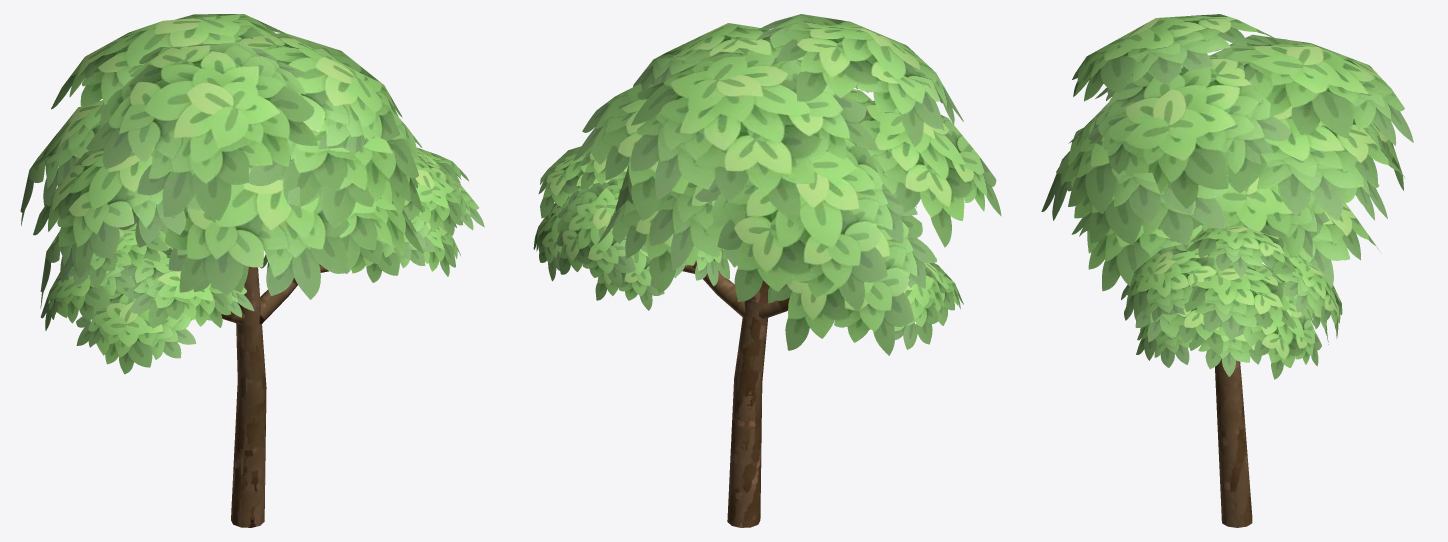
The model's file is tree_7.glb.
The picture shows the model from 3 angles, left to right: view 1: azimuth 30°, elevation 25°; view 2: azimuth 150°, elevation 25°; view 3: azimuth 270°, elevation 25°; orthographic projection. The views are drawn at different scales.
Visible parts, largest first — view 1: Tree_7; view 2: Tree_7; view 3: Tree_7.
Part boxes in pixels (<box>): Tree_7: <box>20,14,484,527</box>; Tree_7: <box>533,14,1001,527</box>; Tree_7: <box>1041,14,1413,527</box>.
Size of the model in its own units: 5.55 by 5.86 by 4.47.
Materials: 2 (2 with a texture image).
